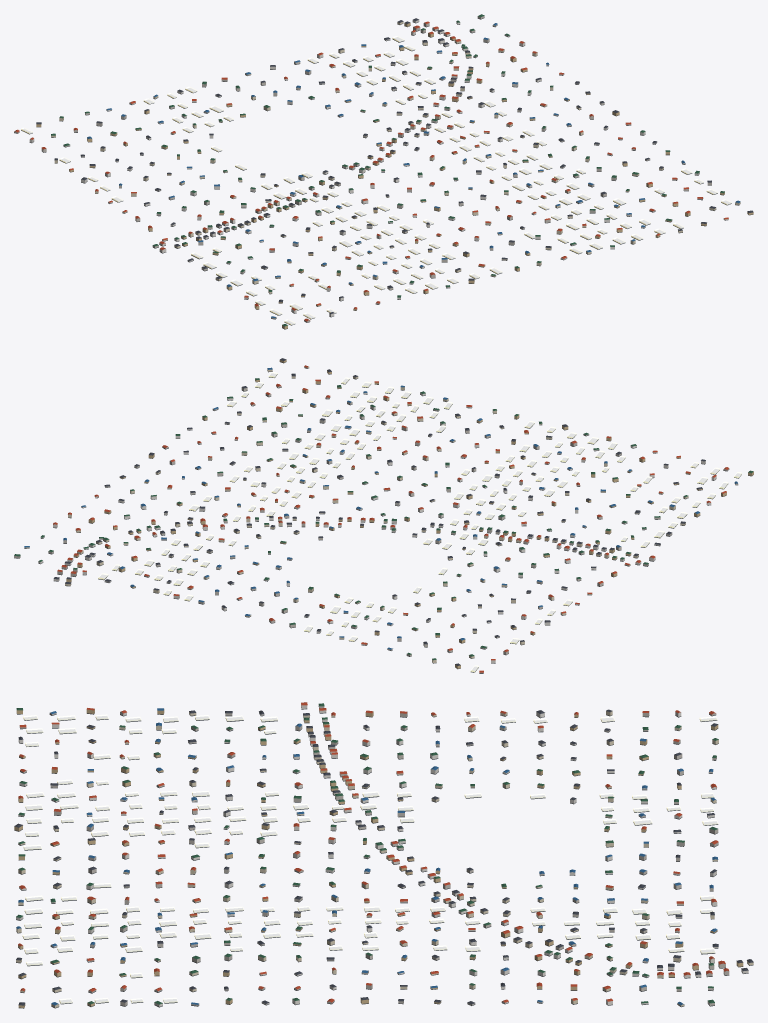
Rendered from buildings_T_E02_S05.glb.
3 views of the same model, one above another, from view 1: azimuth 30°, elevation 25°; view 2: azimuth 150°, elevation 25°; view 3: azimuth 270°, elevation 25° (orthographic). The views are drawn at different scales.
Parts seen in each view (by area): view 1: T_E02_S05_slope_seating_foundations, T_E02_S05_roofs_agri_greenhouse_arch, T_E02_S05_walls_wall_modern_warm_white, T_E02_S05_walls_wall_french_ochre_villa, T_E02_S05_walls_wall_dalat_cream_stucco, T_E02_S05_roofs_roof_slate_French_villa_hip, T_E02_S05_roofs_roof_terracotta_gable, T_E02_S05_walls_wall_pastel_sand_gray, T_E02_S05_roofs_roof_pine_green_hip, T_E02_S05_roofs_roof_highland_blue_gable; view 2: T_E02_S05_slope_seating_foundations, T_E02_S05_roofs_agri_greenhouse_arch, T_E02_S05_walls_wall_modern_warm_white, T_E02_S05_walls_wall_french_ochre_villa, T_E02_S05_roofs_roof_slate_French_villa_hip, T_E02_S05_walls_wall_dalat_cream_stucco, T_E02_S05_walls_wall_pastel_sand_gray, T_E02_S05_roofs_roof_terracotta_gable, T_E02_S05_roofs_roof_pine_green_hip, T_E02_S05_roofs_roof_highland_blue_gable; view 3: T_E02_S05_slope_seating_foundations, T_E02_S05_roofs_agri_greenhouse_arch, T_E02_S05_walls_wall_modern_warm_white, T_E02_S05_walls_wall_french_ochre_villa, T_E02_S05_walls_wall_dalat_cream_stucco, T_E02_S05_roofs_roof_slate_French_villa_hip, T_E02_S05_roofs_roof_terracotta_gable, T_E02_S05_walls_wall_pastel_sand_gray, T_E02_S05_roofs_roof_pine_green_hip, T_E02_S05_roofs_roof_highland_blue_gable.
Boxes of the visible parts, x1,y1,x2,y2 form: T_E02_S05_slope_seating_foundations: (14,17,753,329); T_E02_S05_roofs_agri_greenhouse_arch: (21,36,731,324); T_E02_S05_walls_wall_modern_warm_white: (29,20,699,316); T_E02_S05_walls_wall_french_ochre_villa: (36,23,753,328); T_E02_S05_walls_wall_dalat_cream_stucco: (51,21,740,293); T_E02_S05_roofs_roof_slate_French_villa_hip: (36,18,753,313); T_E02_S05_roofs_roof_terracotta_gable: (14,21,728,321); T_E02_S05_walls_wall_pastel_sand_gray: (14,16,711,322); T_E02_S05_roofs_roof_pine_green_hip: (51,14,724,326); T_E02_S05_roofs_roof_highland_blue_gable: (87,23,740,318); T_E02_S05_slope_seating_foundations: (14,361,753,673); T_E02_S05_roofs_agri_greenhouse_arch: (98,372,741,672); T_E02_S05_walls_wall_modern_warm_white: (38,392,716,663); T_E02_S05_walls_wall_french_ochre_villa: (66,360,753,668); T_E02_S05_roofs_roof_slate_French_villa_hip: (53,358,705,665); T_E02_S05_walls_wall_dalat_cream_stucco: (24,366,688,662); T_E02_S05_walls_wall_pastel_sand_gray: (14,385,738,673); T_E02_S05_roofs_roof_terracotta_gable: (53,365,728,672); T_E02_S05_roofs_roof_pine_green_hip: (14,378,753,660); T_E02_S05_roofs_roof_highland_blue_gable: (24,367,737,649); T_E02_S05_slope_seating_foundations: (14,706,753,1008); T_E02_S05_roofs_agri_greenhouse_arch: (22,714,718,1003); T_E02_S05_walls_wall_modern_warm_white: (16,704,748,1006); T_E02_S05_walls_wall_french_ochre_villa: (14,709,743,1007); T_E02_S05_walls_wall_dalat_cream_stucco: (16,711,753,1007); T_E02_S05_roofs_roof_slate_French_villa_hip: (14,709,753,1005); T_E02_S05_roofs_roof_terracotta_gable: (18,702,728,1002); T_E02_S05_walls_wall_pastel_sand_gray: (18,705,729,1006); T_E02_S05_roofs_roof_pine_green_hip: (16,703,718,1004); T_E02_S05_roofs_roof_highland_blue_gable: (16,708,718,1005).
Size of the model in its own units: 1794 by 29.91 by 1839.
